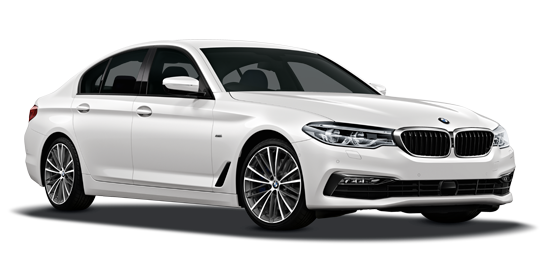car: (21, 38, 522, 236)
